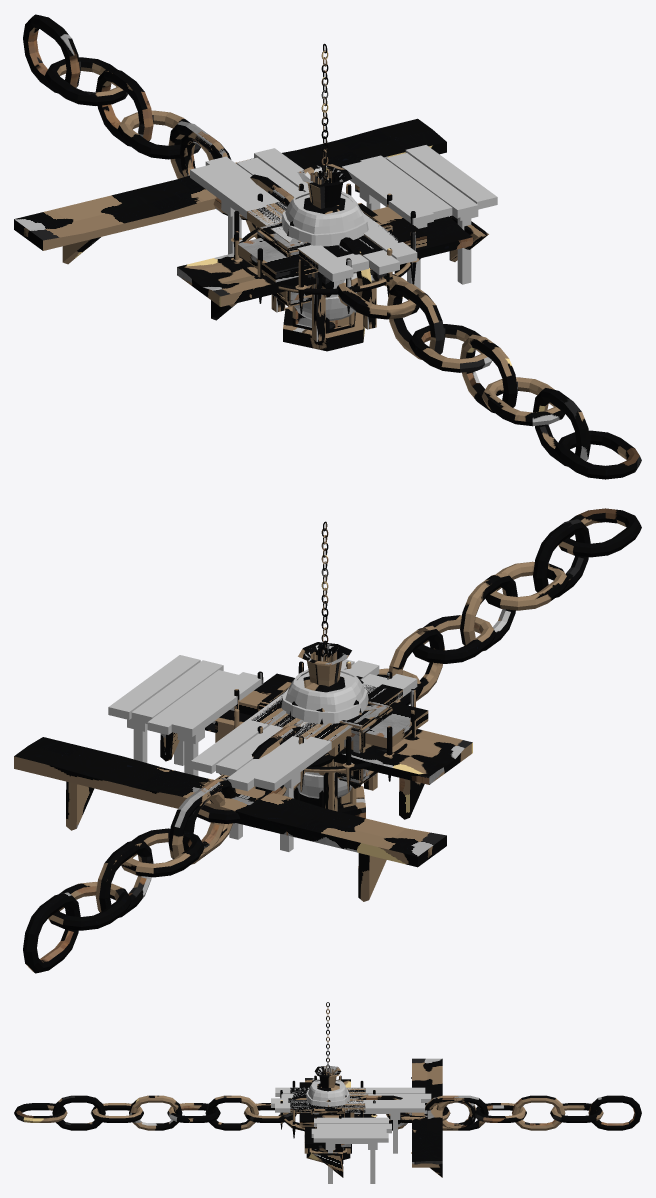
File: barrelfurrygamejam2.gltf
3 views of the same model, one above another, from view 1: azimuth 30°, elevation 25°; view 2: azimuth 150°, elevation 25°; view 3: azimuth 270°, elevation 25° (orthographic). The views are drawn at different scales.
Parts seen in each view (by area): view 1: Torus.013, Cube.039, Cube.019, Cube.030, Cube.040, Cube.001, Torus, Cube.144, Cube.002, Cube.152, Torus.004, Cube.005 (+2 smaller); view 2: Torus.013, Cube.039, Cube.019, Cube.030, Cube.040, Cube.001, Torus, Cube.002, Cube.144, Cube.007, Cube.152, Torus.004 (+2 smaller); view 3: Torus.013, Cube.039, Cube.030, Cube.019, Cube.001, Torus, Torus.004, Cube.040, Cube.012, Torus.028, Cube.152, Cube.002 (+1 smaller).
Boxes of the visible parts, x1,y1,x2,y2 form: Torus.013: (23, 14, 641, 479); Cube.039: (14, 118, 446, 264); Cube.019: (342, 145, 497, 289); Cube.030: (190, 148, 417, 281); Cube.040: (177, 216, 472, 320); Cube.001: (281, 190, 368, 320); Torus: (231, 43, 419, 313); Cube.144: (283, 197, 365, 351); Cube.002: (238, 207, 426, 282); Cube.152: (298, 164, 351, 208); Torus.004: (180, 131, 231, 176); Cube.005: (311, 272, 325, 341); Torus.013: (23, 508, 641, 973); Cube.039: (14, 737, 446, 901); Cube.019: (108, 655, 263, 775); Cube.030: (191, 659, 417, 851); Cube.040: (205, 710, 472, 819); Cube.001: (281, 668, 368, 798); Torus: (234, 521, 419, 791); Cube.002: (239, 673, 428, 788); Cube.144: (289, 676, 365, 818); Cube.007: (311, 684, 402, 748); Cube.152: (298, 642, 351, 686); Torus.004: (183, 777, 236, 854); Torus.013: (14, 1095, 641, 1130); Cube.039: (411, 1058, 442, 1177); Cube.030: (271, 1087, 431, 1153); Cube.019: (311, 1117, 391, 1183); Cube.001: (306, 1079, 350, 1106); Torus: (278, 1002, 377, 1138); Torus.004: (425, 1095, 476, 1130); Cube.040: (305, 1078, 350, 1163); Cube.012: (290, 1103, 365, 1112); Torus.028: (312, 1151, 343, 1177); Cube.152: (314, 1065, 341, 1088); Cube.002: (299, 1082, 338, 1126).
Size of the model in its own units: 16 by 10.91 by 41.
